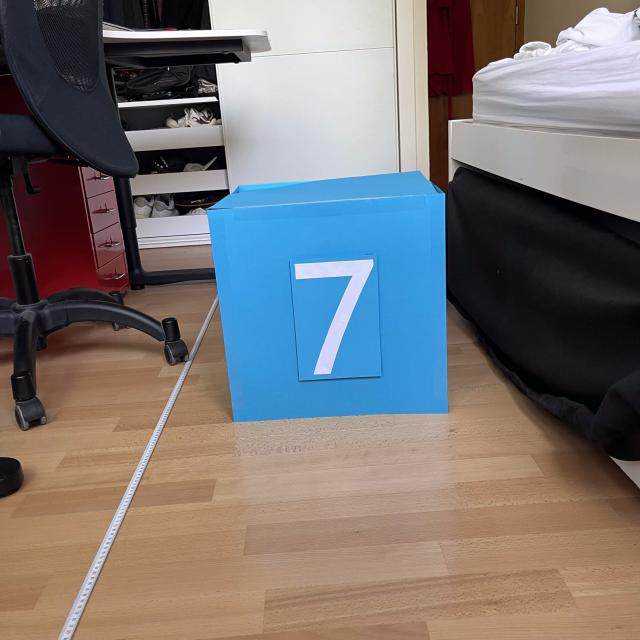box: (201, 167, 453, 424)
